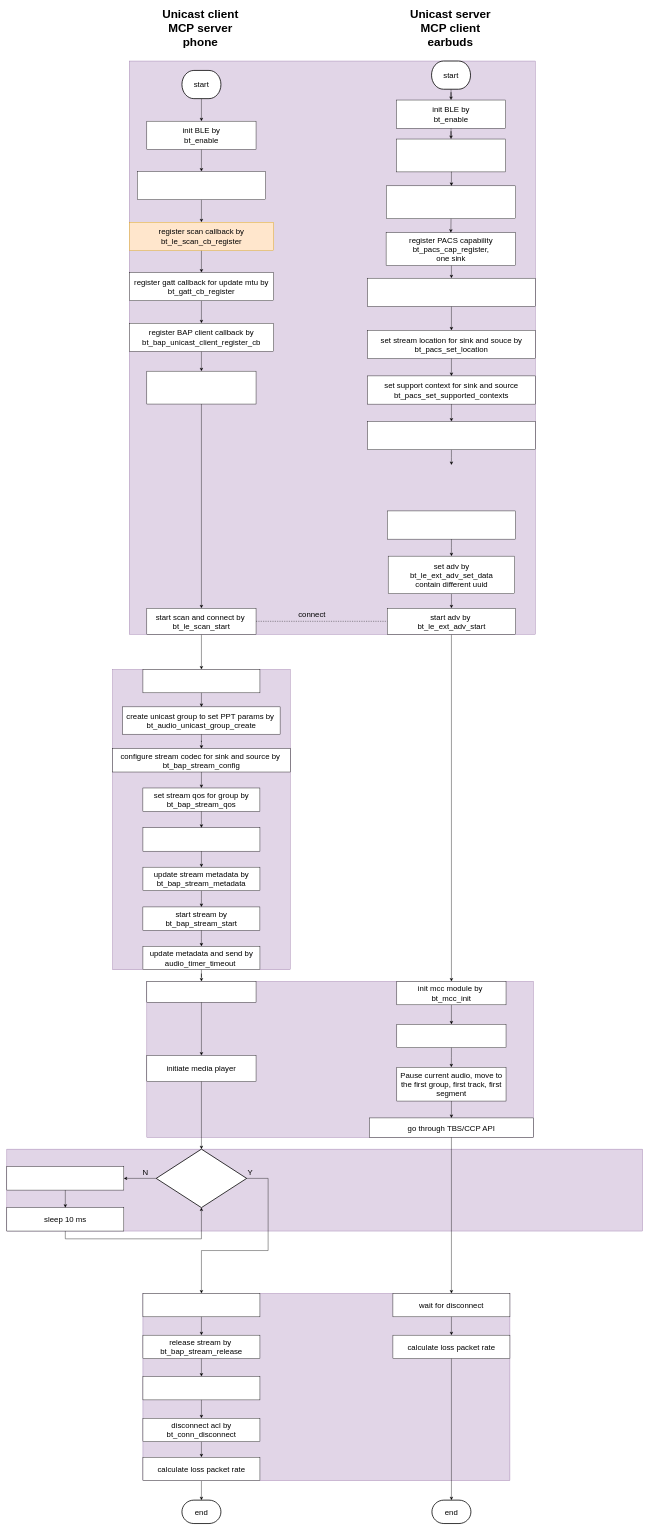
This 649x1530 diagram has some shape labels left out. Here are the shapes that lost their labels. From the top down, the centre of each, then its label:
At point 451,155: "register mcc cb by bt_mcc_cb".
At point 201,185: "set stream_ops contain stream operated callback".
At point 451,202: "regist unicast server callbacks bt_bap_unicast_server_register_cb".
At point 451,292: "set stream operation by bt_bap_stream_cb_register".
At point 201,387: "register mcs cb by bt_mcs_cb".
At point 451,435: "set available context for sink and source bt_pacs_set_available_contexts".
At point 451,525: "create adv by bt_le_ext_adv_create".
At point 201,681: "Discover remote sink".
At point 201,839: "enable stream by bt_bap_stream_enable".
At point 201,991: "initiate mcs by bt_mcs_init".
At point 451,1036: "discover mcs by bt_mcc_discover_mcs".
At point 65,1178: "update metadata and send to unicast server".
At point 201,1178: "test end?".
At point 201,1305: "disable stream by bt_bap_stream_disable".
At point 201,1388: "delete unicast group by bt_bap_unicast_group_delete".
